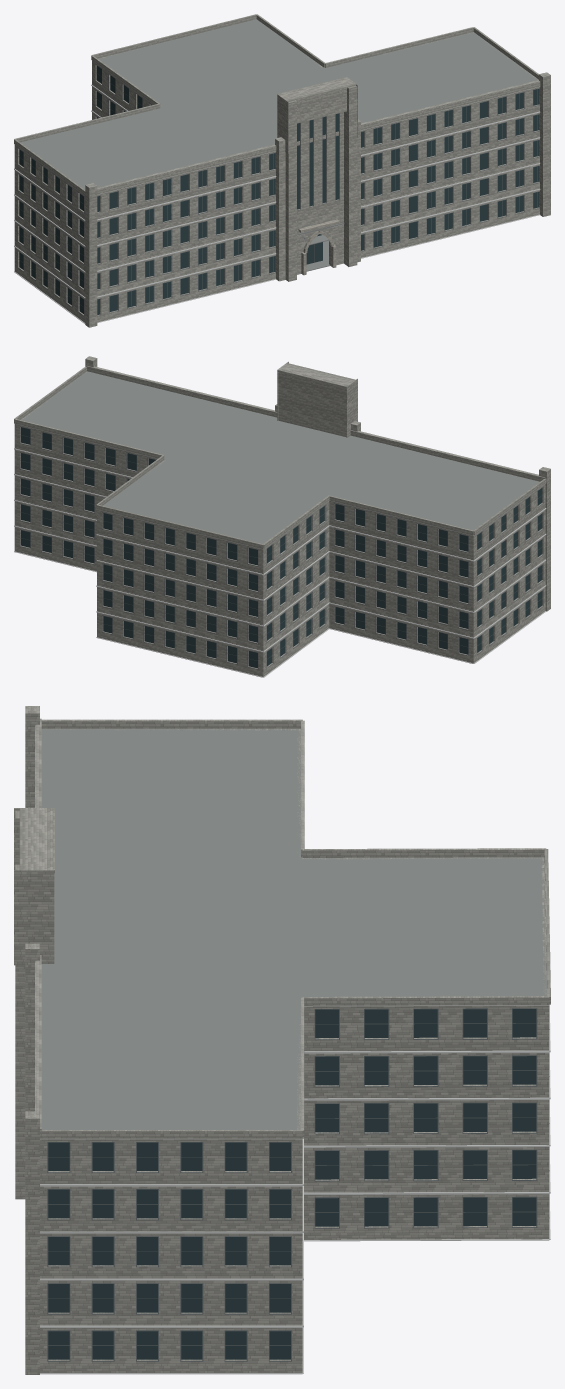
3 views of the same model, one above another, from view 1: azimuth 30°, elevation 25°; view 2: azimuth 150°, elevation 25°; view 3: azimuth 270°, elevation 25° (orthographic). The views are drawn at different scales.
Parts seen in each view (by area): view 1: lawNew__stone, lawNew__roof, lawNew__glass, lawNew__frame, lawNew__light, lawNew__cream; view 2: lawNew__stone, lawNew__roof, lawNew__glass, lawNew__frame, lawNew__light; view 3: lawNew__roof, lawNew__stone, lawNew__glass, lawNew__frame, lawNew__light.
Part boxes in pixels (x1=…): lawNew__stone: x1=14, y1=14, x2=550, y2=327; lawNew__roof: x1=20, y1=19, x2=537, y2=271; lawNew__glass: x1=19, y1=66, x2=538, y2=314; lawNew__frame: x1=17, y1=64, x2=539, y2=316; lawNew__light: x1=14, y1=60, x2=540, y2=323; lawNew__cream: x1=298, y1=219, x2=339, y2=275; lawNew__stone: x1=14, y1=356, x2=550, y2=676; lawNew__roof: x1=21, y1=371, x2=539, y2=543; lawNew__glass: x1=21, y1=427, x2=542, y2=668; lawNew__frame: x1=20, y1=426, x2=543, y2=669; lawNew__light: x1=14, y1=423, x2=546, y2=677; lawNew__roof: x1=41, y1=728, x2=547, y2=1129; lawNew__stone: x1=14, y1=706, x2=550, y2=1374; lawNew__glass: x1=48, y1=1009, x2=536, y2=1359; lawNew__frame: x1=47, y1=1008, x2=549, y2=1361; lawNew__light: x1=40, y1=856, x2=550, y2=1374.
Size of the model in its own units: 77.34 by 28.8 by 42.55.
6 materials, 2 textured.
